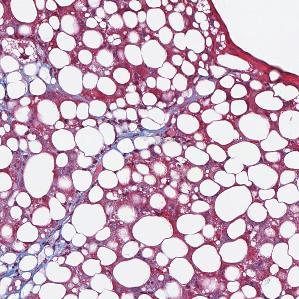fibrosis: (112, 127, 174, 145)
